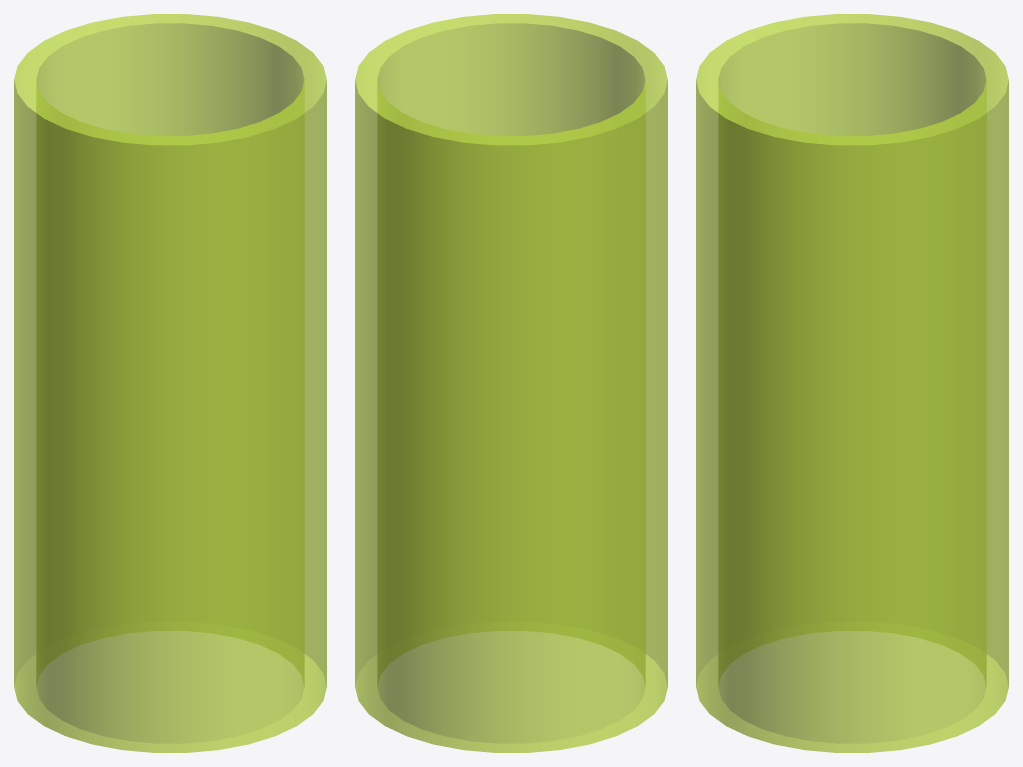
The model's file is boli.dae.
3 views of the same model, side by side, from view 1: azimuth 30°, elevation 25°; view 2: azimuth 150°, elevation 25°; view 3: azimuth 270°, elevation 25° (orthographic).
Parts seen in each view (by area): view 1: Tube002; view 2: Tube002; view 3: Tube002.
Boxes of the visible parts, x1,y1,x2,y2 form: Tube002: (14, 14, 326, 752); Tube002: (355, 14, 667, 752); Tube002: (696, 14, 1008, 752).
Size of the model in its own units: 13.92 by 14 by 30.
